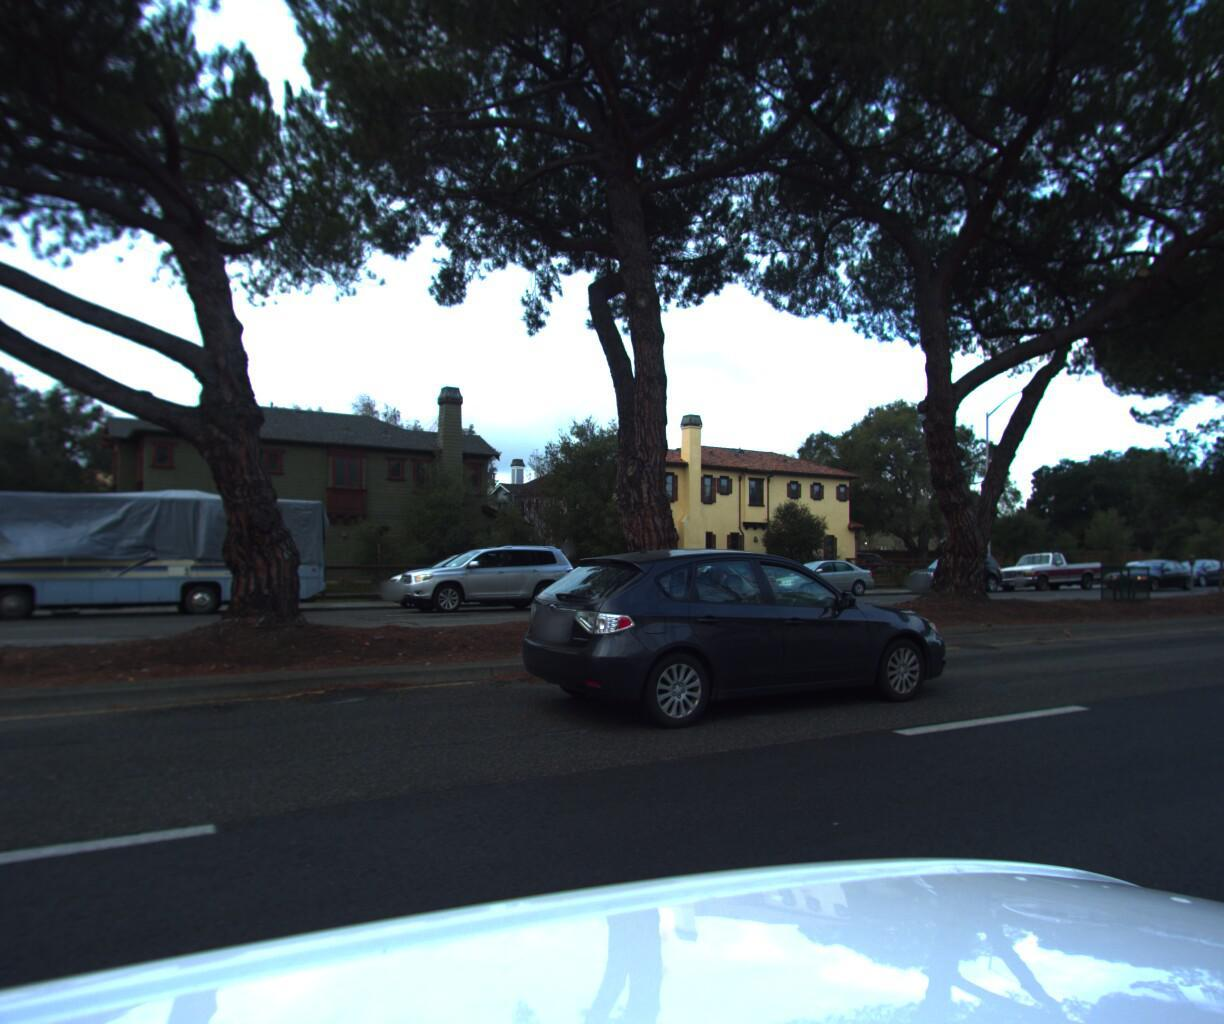car: (499, 550, 957, 742), (388, 541, 579, 614), (375, 548, 545, 613), (896, 550, 1007, 597), (755, 556, 876, 597), (987, 547, 1105, 589), (1101, 555, 1198, 589), (1192, 555, 1224, 584)
other_vehicle: (0, 470, 342, 628)
